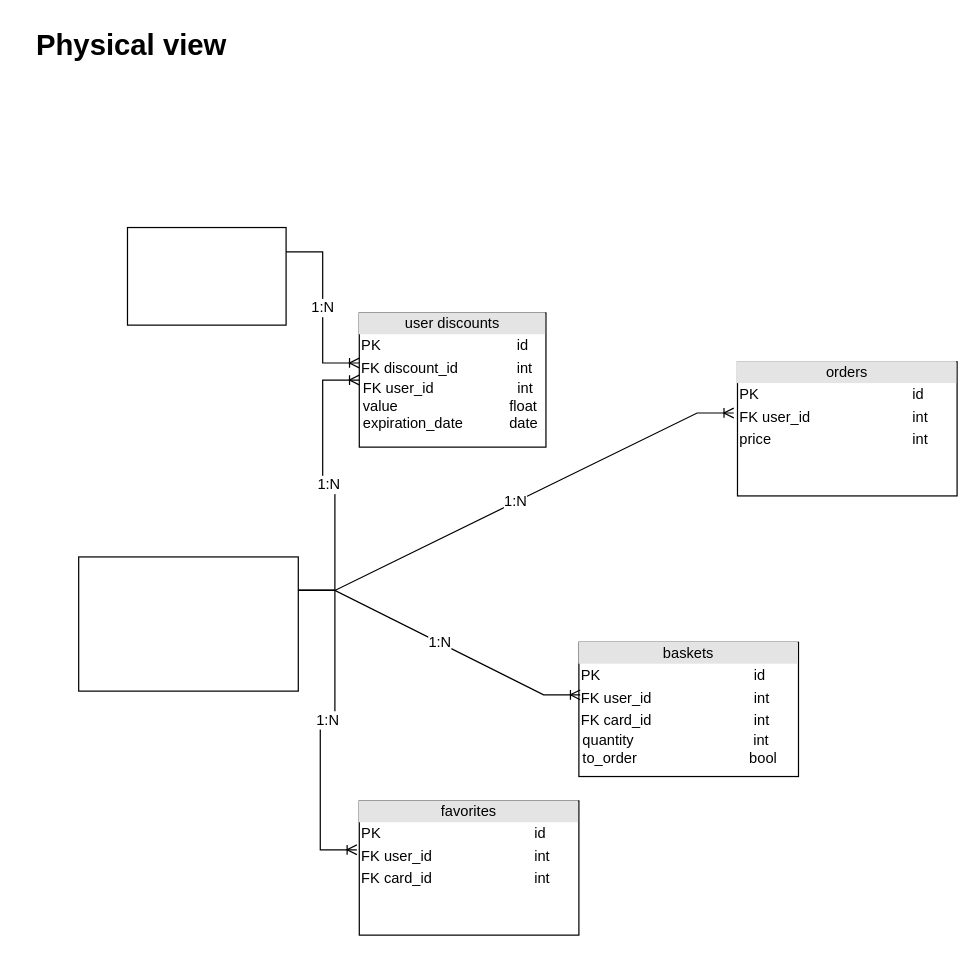
This 978x956 diagram has some shape labels left out. The centre of each missing label's shape, as x and y in pixels:
"discounts PK id name string is_temporary bool" belongs at (206,275).
"users PK id name string phone string card string" belongs at (187,623).
